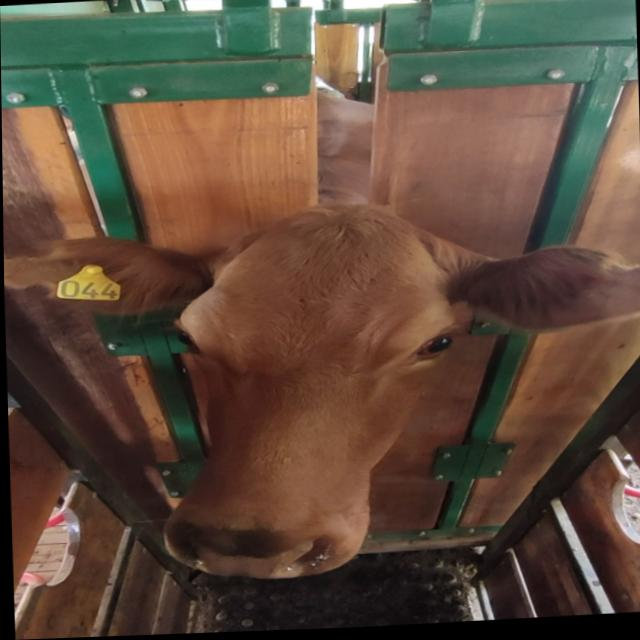cowFace: (151, 206, 462, 587)
